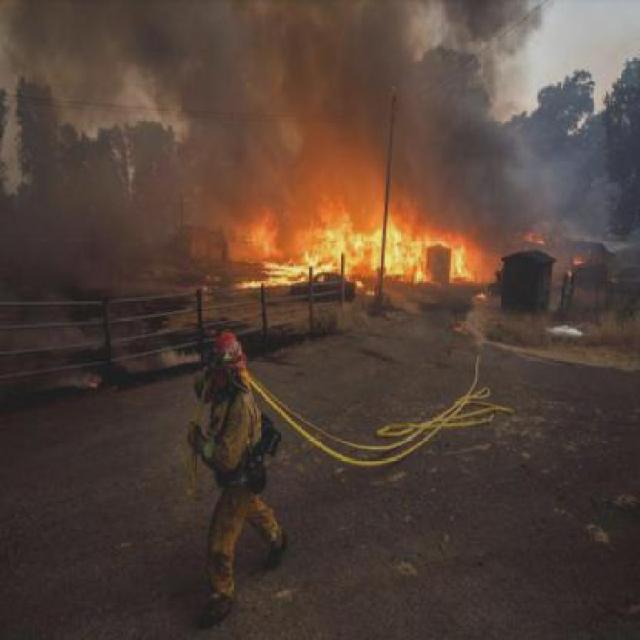Fire: (222, 177, 502, 308)
